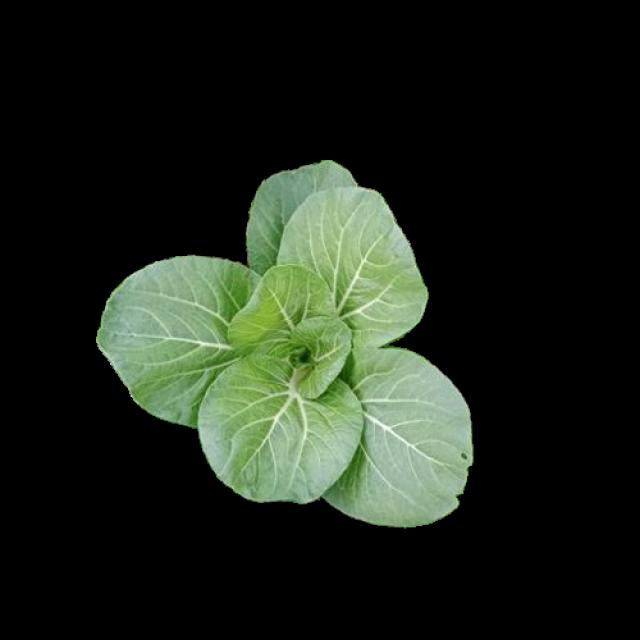not-mature: (99, 161, 474, 525)
unhealthy: (321, 343, 475, 522)
